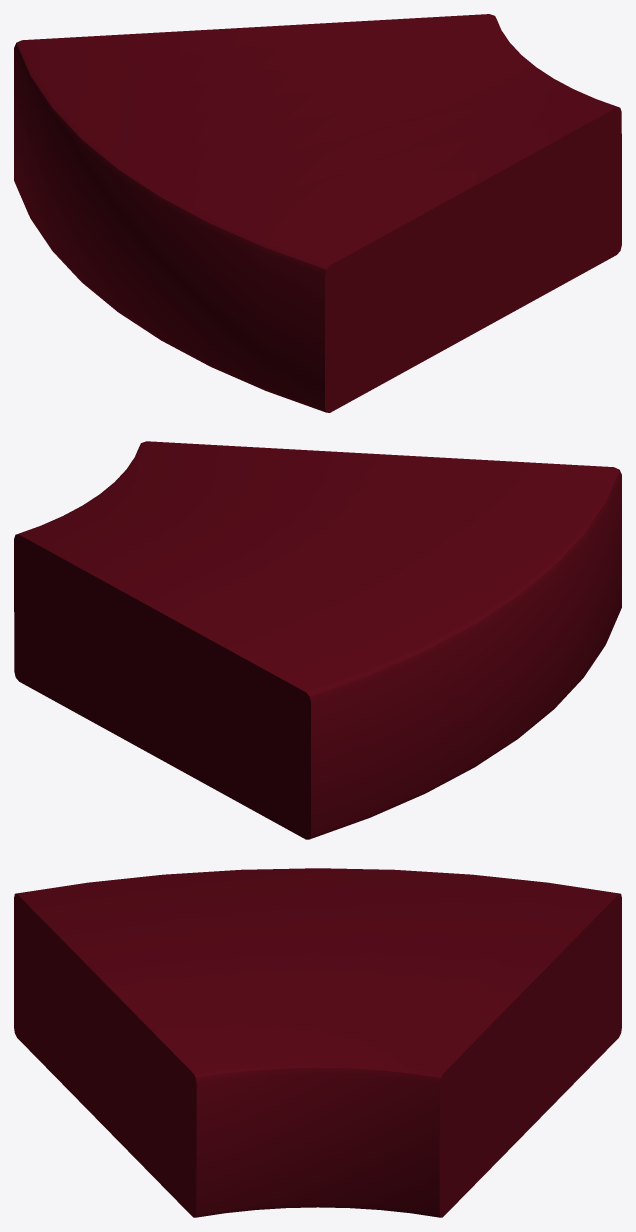
File: Middle_Big.fbx
The picture shows the model from 3 angles, top to bottom: view 1: azimuth 30°, elevation 25°; view 2: azimuth 150°, elevation 25°; view 3: azimuth 270°, elevation 25°; orthographic projection. The views are drawn at different scales.
Visible parts, largest first — view 1: Midle_big; view 2: Midle_big; view 3: Midle_big.
Part boxes in pixels (left/top/right/bottom): Midle_big: left=14, top=14, right=621, bottom=412; Midle_big: left=14, top=441, right=621, bottom=839; Midle_big: left=14, top=868, right=621, bottom=1217.
Size of what is drawn, in the model's own units: 63.07 by 20 by 76.54.
